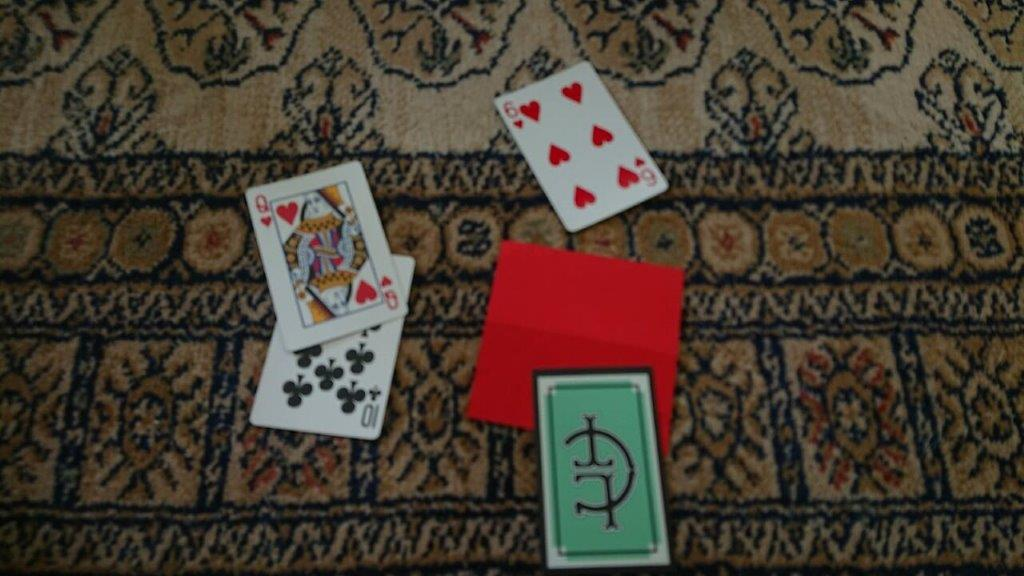6H: (499, 98, 527, 132)
QH: (250, 191, 275, 229)
